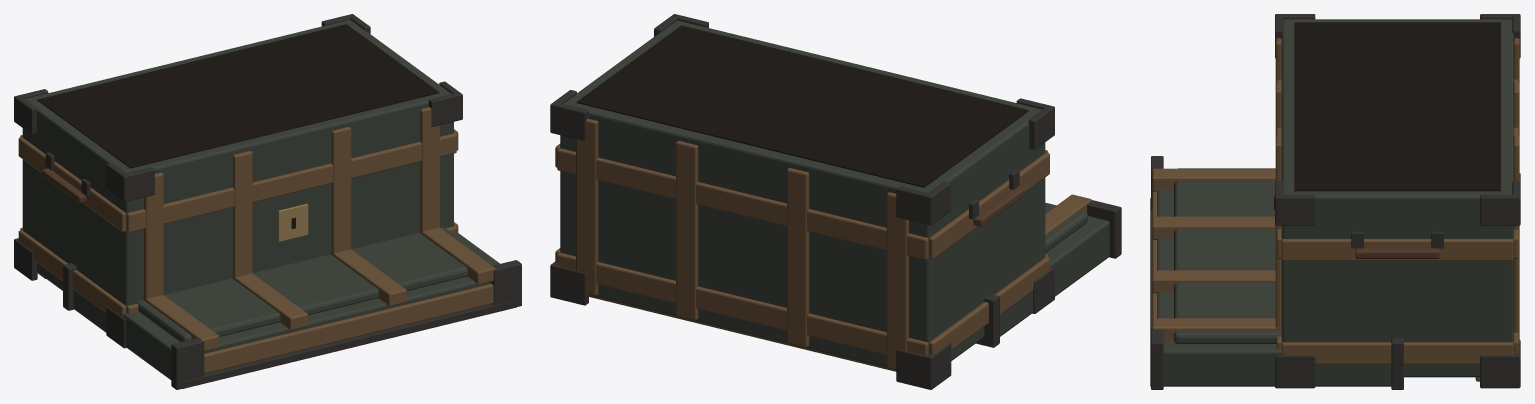
The model's file is trunk.glb.
3 views of the same model, side by side, from view 1: azimuth 30°, elevation 25°; view 2: azimuth 150°, elevation 25°; view 3: azimuth 270°, elevation 25° (orthographic). The views are drawn at different scales.
Parts seen in each view (by area): view 1: body, lid; view 2: body, lid; view 3: body, lid.
Part boxes in pixels (bbox=[...]): body: bbox=[14, 14, 462, 348]; lid: bbox=[63, 227, 521, 389]; body: bbox=[550, 14, 1054, 389]; lid: bbox=[976, 194, 1121, 347]; body: bbox=[1274, 14, 1520, 388]; lid: bbox=[1150, 156, 1403, 389].
Size of the model in its own units: 1.08 by 0.55 by 0.877.
